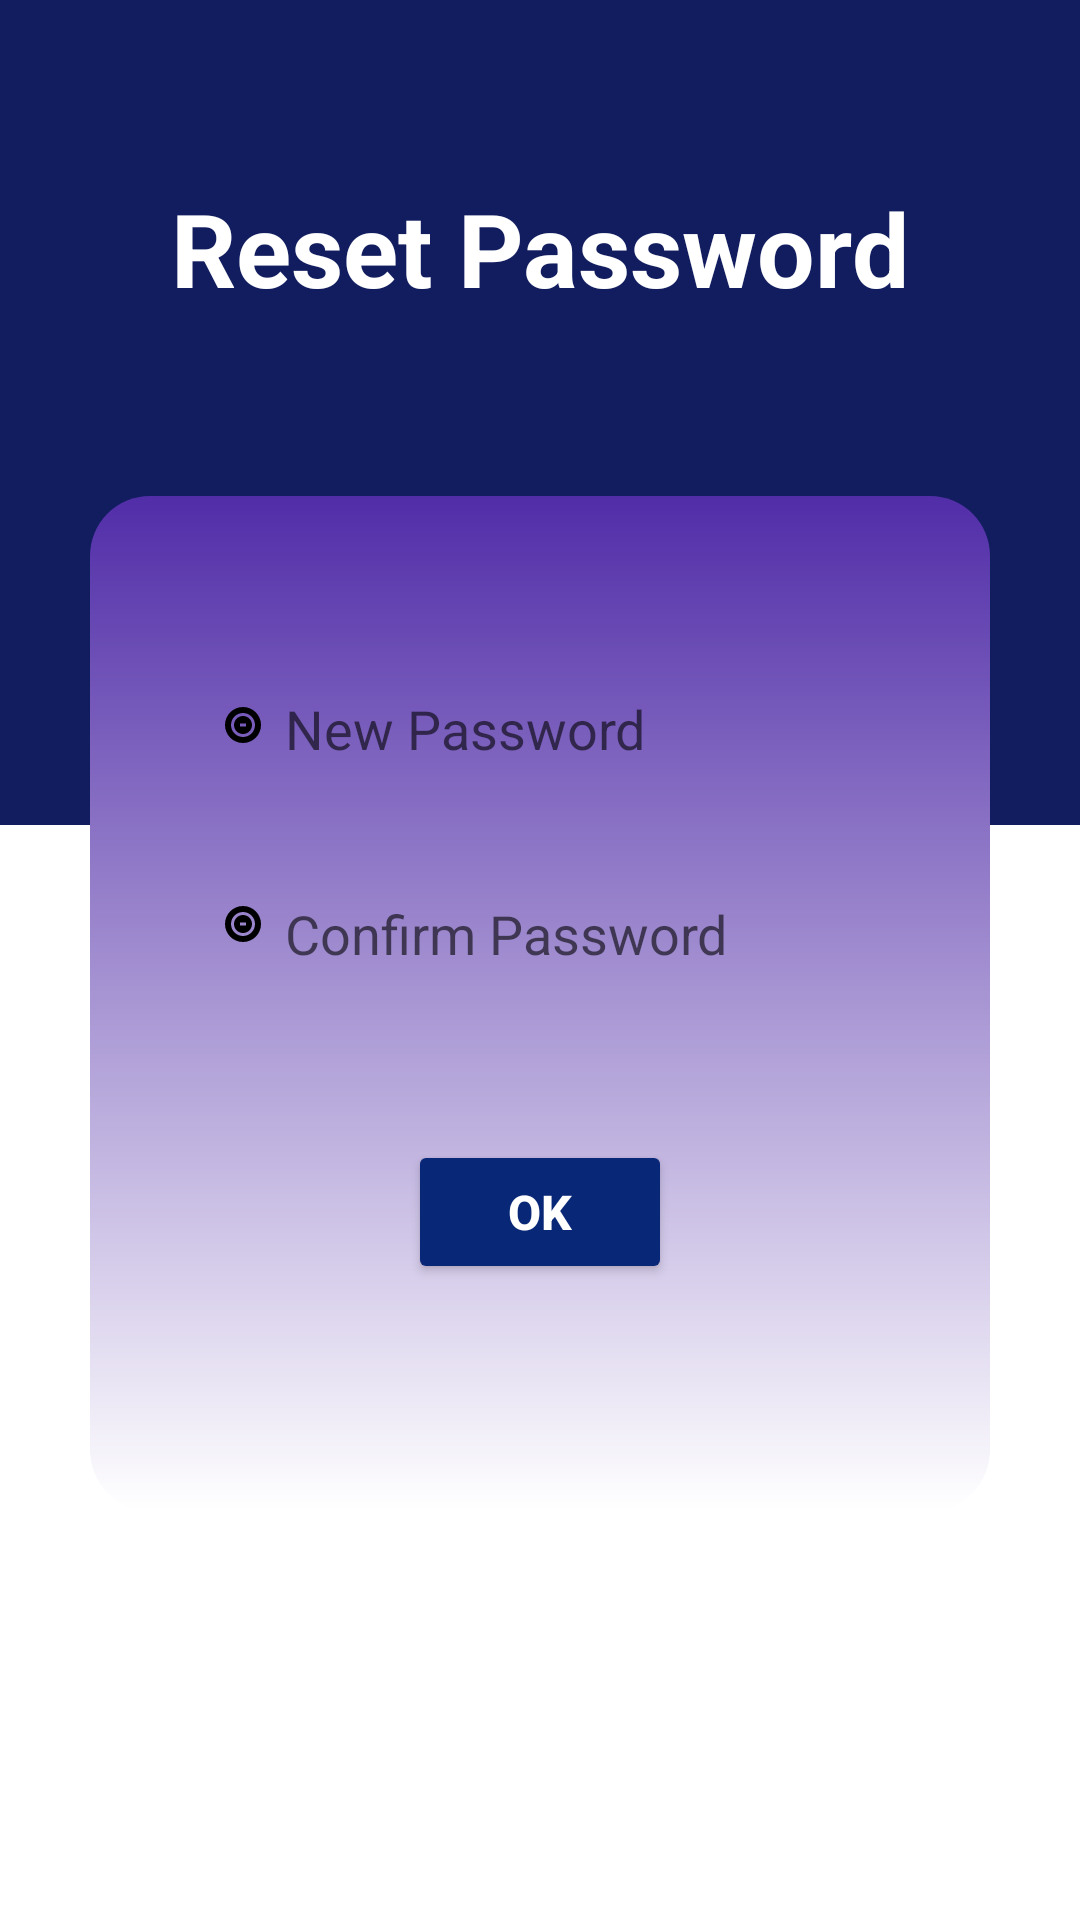

Screen size 1080*1920. Icon name, then its center in pixels as point (x, y):
eye: point (243, 725), point (243, 924)
